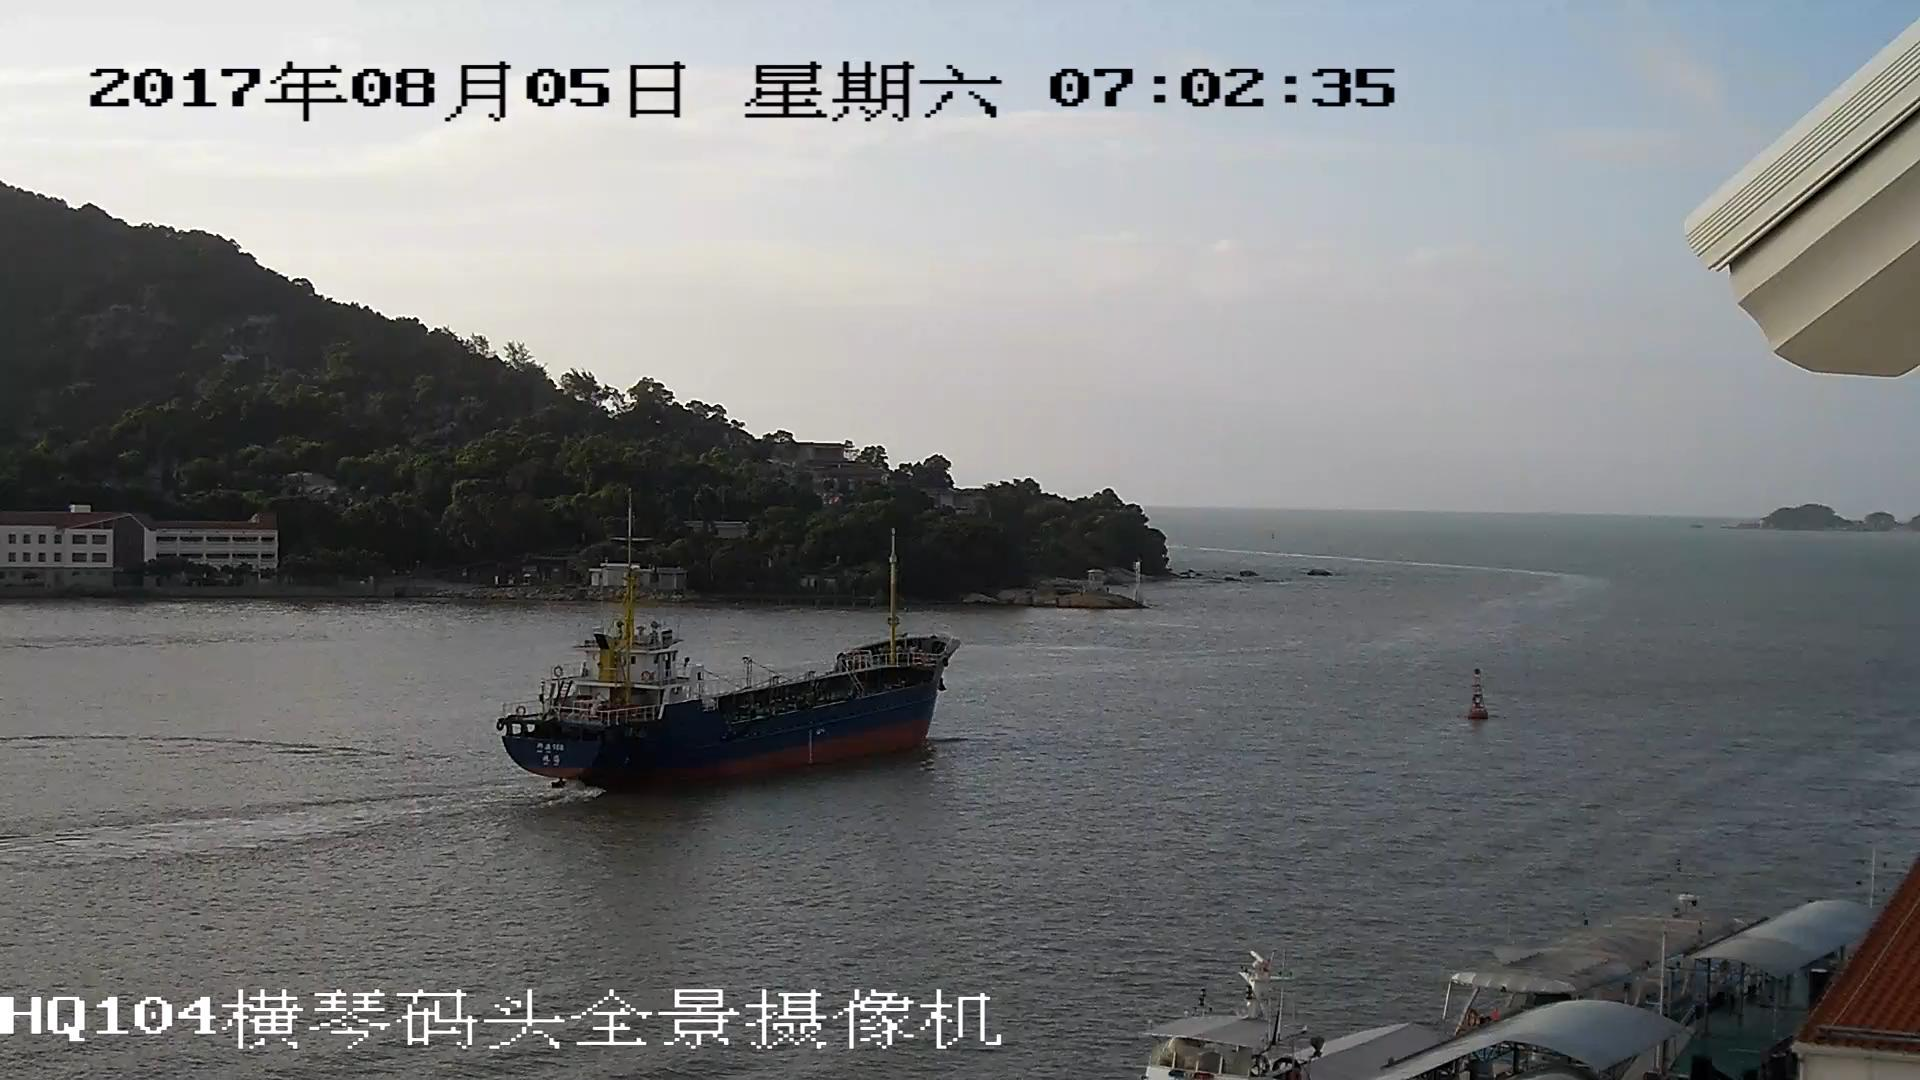Ship: (498, 527, 957, 791)
